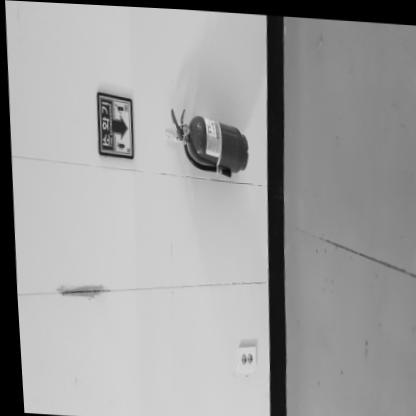FE: (167, 106, 247, 176)
